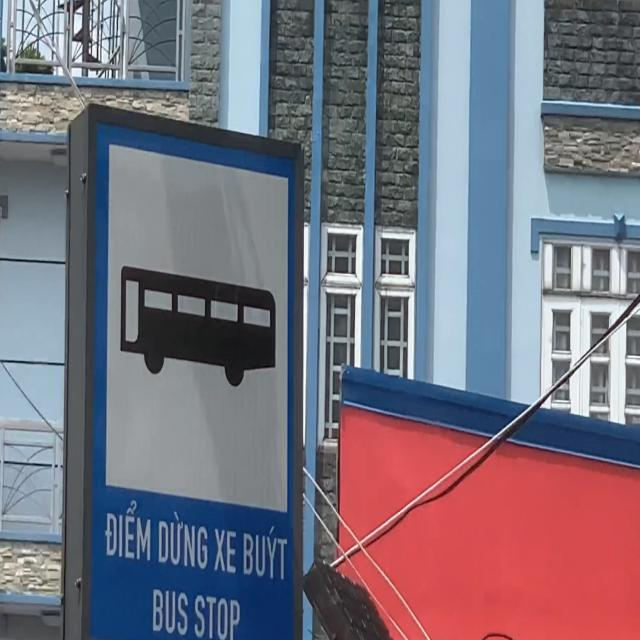Ben xe buyt: (87, 115, 299, 640)
